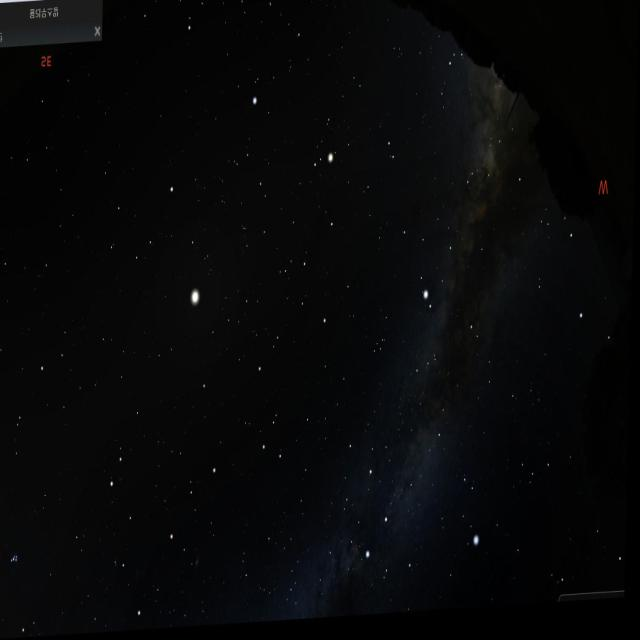aquila: (398, 167, 491, 318)
cygnus: (359, 427, 449, 597)
lyra: (456, 469, 485, 562)
pleiades: (2, 538, 31, 585)
